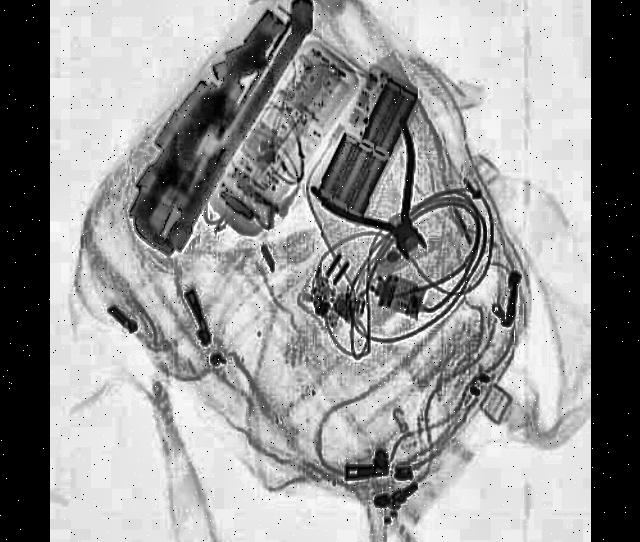Pliers: (308, 108, 457, 300)
